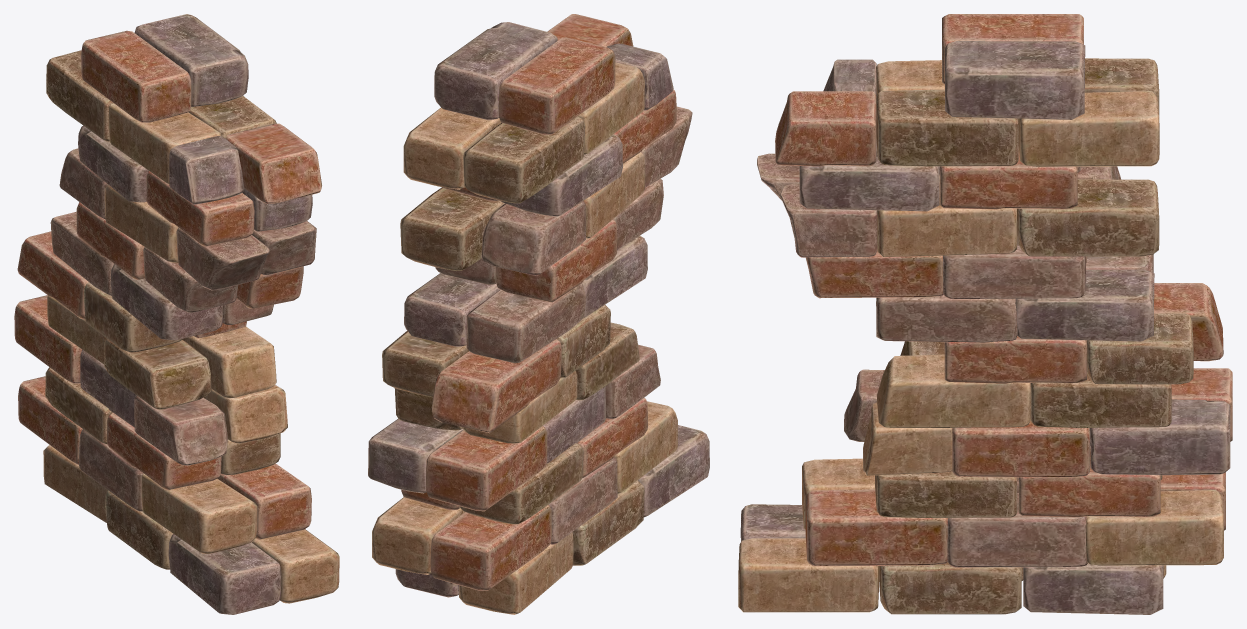
The picture shows the model from 3 angles, left to right: view 1: azimuth 30°, elevation 25°; view 2: azimuth 150°, elevation 25°; view 3: azimuth 270°, elevation 25°; orthographic projection. The views are drawn at different scales.
Parts seen in each view (by area): view 1: SM_Human_Ruins_Brick_Dmg_05_LOD0; view 2: SM_Human_Ruins_Brick_Dmg_05_LOD0; view 3: SM_Human_Ruins_Brick_Dmg_05_LOD0.
Boxes of the visible parts, x1,y1,x2,y2 form: SM_Human_Ruins_Brick_Dmg_05_LOD0: (14,14,339,614); SM_Human_Ruins_Brick_Dmg_05_LOD0: (368,14,709,614); SM_Human_Ruins_Brick_Dmg_05_LOD0: (738,14,1232,614).
Bounding box in the file's own units: 0.3797 × 1.37 × 1.13.
Materials: 1 (1 with a texture image).
